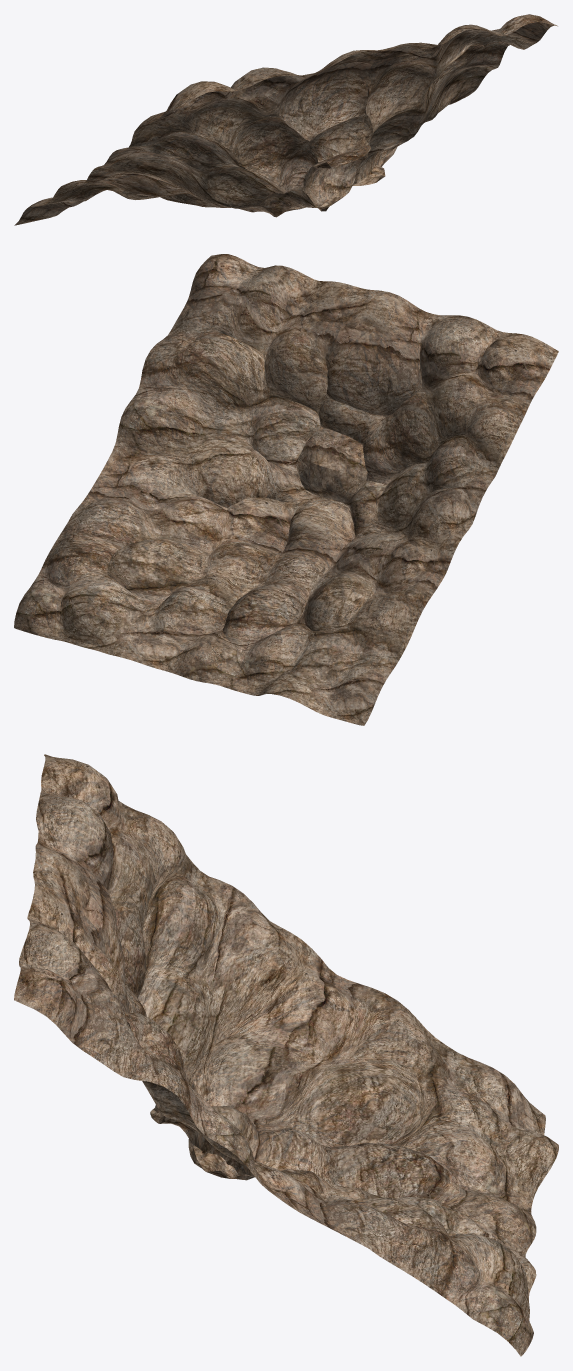
File: CaveCollapsedSheet_LOD0.obj
3 views of the same model, one above another, from view 1: azimuth 30°, elevation 25°; view 2: azimuth 150°, elevation 25°; view 3: azimuth 270°, elevation 25° (orthographic). The views are drawn at different scales.
Visible parts, largest first — view 1: CaveCollapsedSheet_LOD0; view 2: CaveCollapsedSheet_LOD0; view 3: CaveCollapsedSheet_LOD0.
Boxes of the visible parts, x1=… form: CaveCollapsedSheet_LOD0: x1=14, y1=14, x2=557, y2=225; CaveCollapsedSheet_LOD0: x1=14, y1=254, x2=558, y2=725; CaveCollapsedSheet_LOD0: x1=14, y1=754, x2=558, y2=1356.
Bounding box in the file's own units: 5.24 × 3.49 × 4.62.
